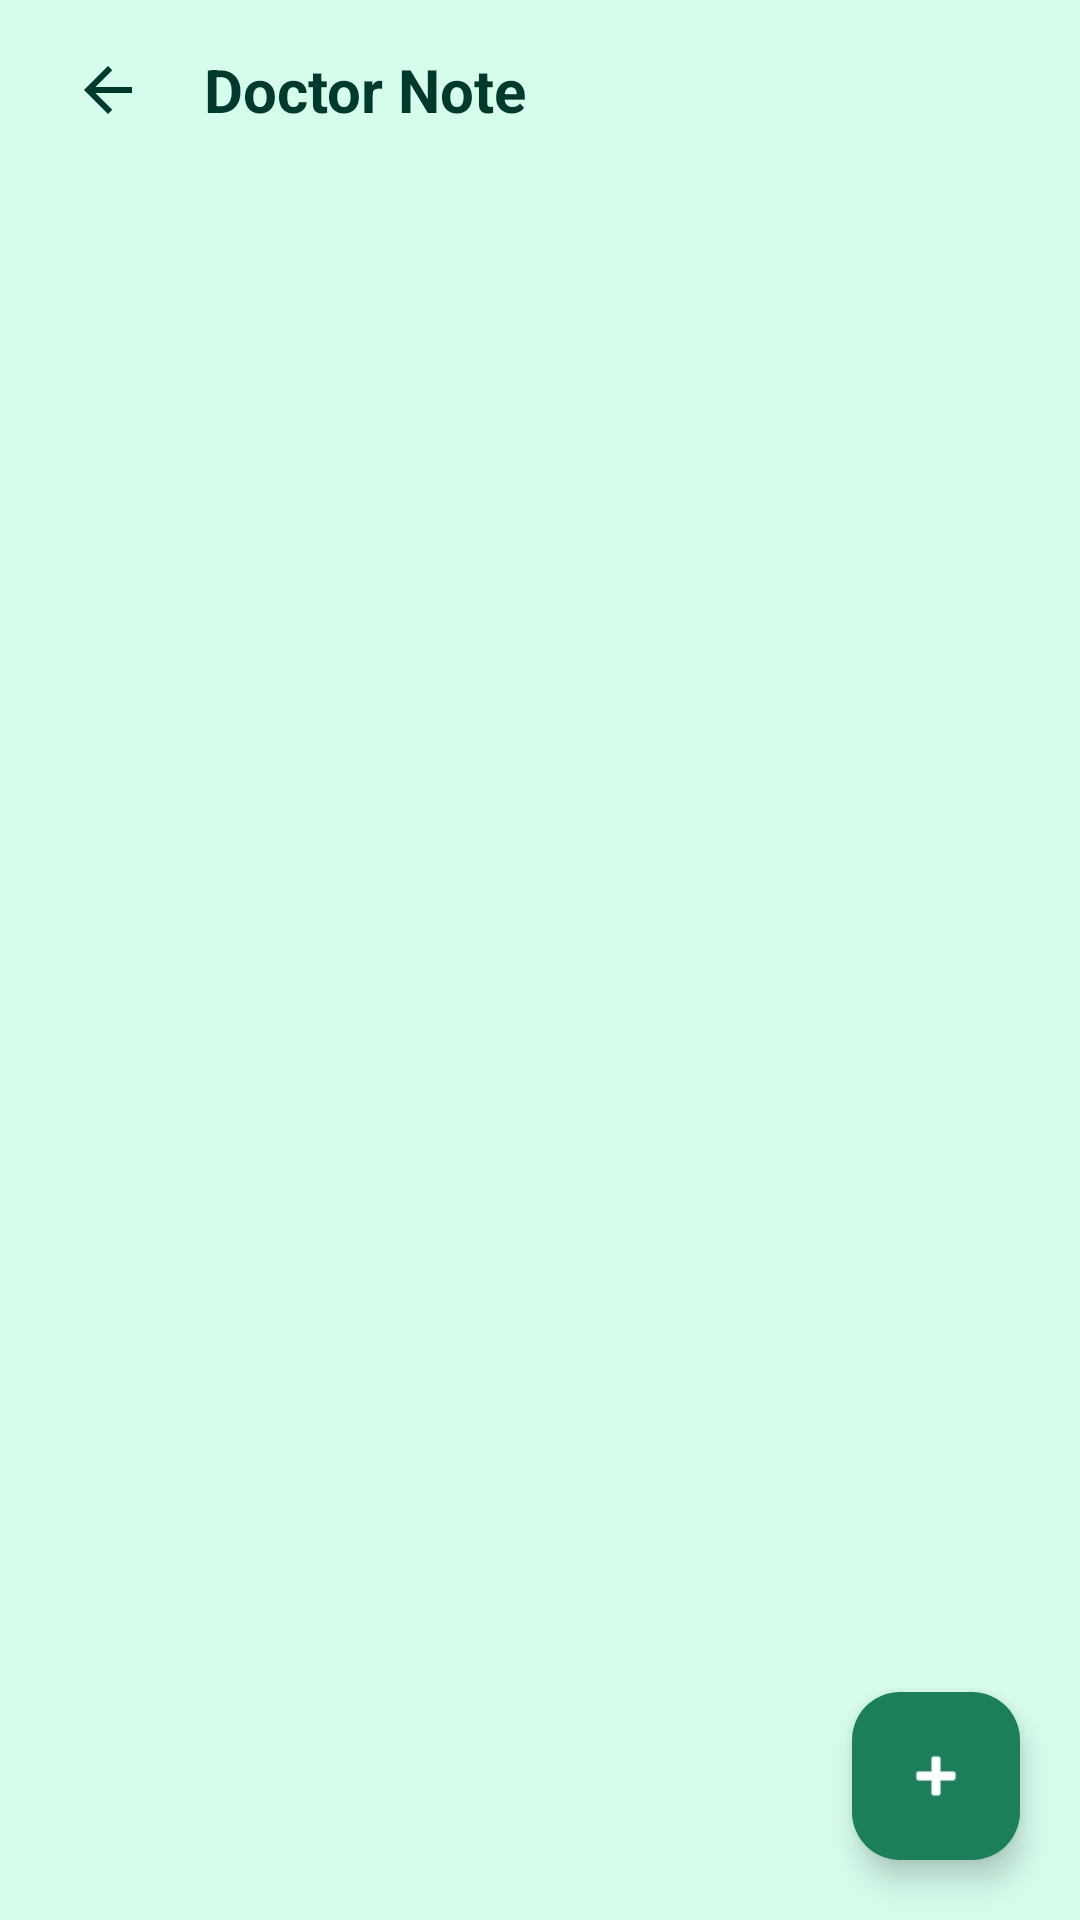

Locate icon controls on the screen. Image size 1080x1920, boxes as (x1, y1, x2, y2).
add: (852, 1692, 1020, 1860)
arrow back: (84, 66, 132, 114)
